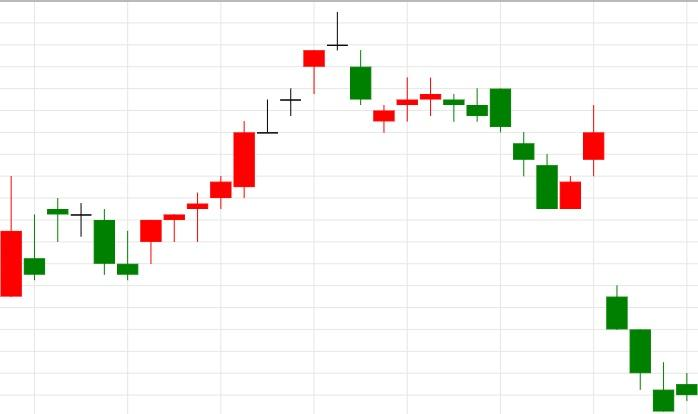evening_star_fall: (140, 12, 371, 264)
morning_star_rise: (47, 198, 162, 281)
